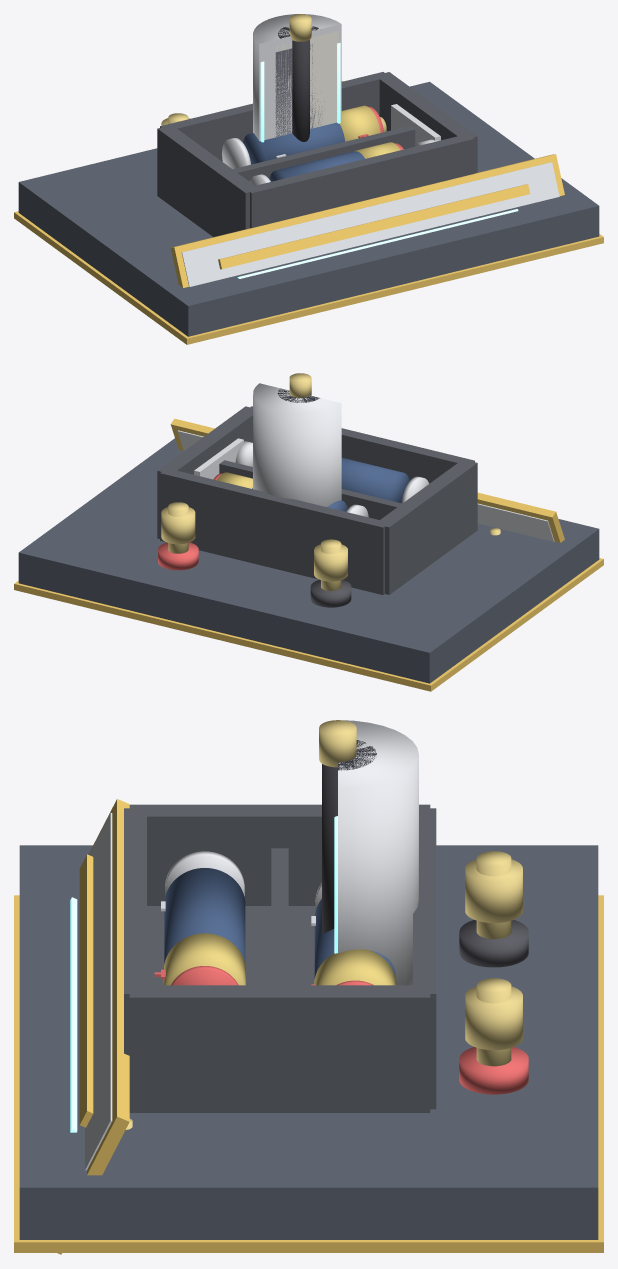
The model's file is battery.glb.
3 renders of one model, top to bottom at view 1: azimuth 30°, elevation 25°; view 2: azimuth 150°, elevation 25°; view 3: azimuth 270°, elevation 25°, orthographic. The views are drawn at different scales.
Parts seen in each view (by area): view 1: batt_full_plinth, batt_sec_plaque_face, batt_full_cradle_front, batt_full_cradle_left, batt_full_plinth_rim, batt_sec_zinc_can, batt_full_cradle_back, batt_sec_plaque_trim, batt_sec_title_bar, batt_full_cradle_right, batt_sec_separator, batt_full_cradle_div (+9 smaller); view 2: batt_full_plinth, batt_full_cradle_back, batt_sec_zinc_can, batt_full_cradle_left, batt_full_plinth_rim, batt_full_cradle_front, batt_full_cradle_right, batt_full_c2_body, batt_sec_plaque_face, batt_sec_plaque_trim, batt_full_cradle_div, batt_full_nut_pos (+7 smaller); view 3: batt_full_plinth, batt_full_cradle_right, batt_sec_zinc_can, batt_full_cradle_left, batt_full_plinth_rim, batt_sec_plaque_face, batt_full_cradle_base, batt_full_c2_body, batt_sec_plaque_trim, batt_full_cradle_back, batt_full_cradle_front, batt_sec_title_bar (+15 smaller).
Boxes of the visible parts, left/top/right/bottom form: batt_full_plinth: left=18, top=81, right=599, bottom=336; batt_sec_plaque_face: left=181, top=162, right=559, bottom=286; batt_full_cradle_front: left=245, top=134, right=474, bottom=228; batt_full_cradle_left: left=157, top=125, right=257, bottom=236; batt_full_plinth_rim: left=14, top=211, right=603, bottom=344; batt_sec_zinc_can: left=253, top=14, right=341, bottom=141; batt_full_cradle_back: left=160, top=72, right=389, bottom=161; batt_sec_plaque_trim: left=171, top=154, right=564, bottom=287; batt_sec_title_bar: left=218, top=184, right=530, bottom=269; batt_full_cradle_right: left=375, top=72, right=477, bottom=173; batt_sec_separator: left=268, top=31, right=338, bottom=133; batt_full_cradle_div: left=233, top=126, right=415, bottom=181; batt_full_plinth: left=18, top=438, right=599, bottom=683; batt_full_cradle_back: left=160, top=468, right=389, bottom=594; batt_sec_zinc_can: left=253, top=383, right=341, bottom=506; batt_full_cradle_left: left=376, top=459, right=477, bottom=594; batt_full_plinth_rim: left=14, top=558, right=603, bottom=691; batt_full_cradle_front: left=245, top=406, right=474, bottom=483; batt_full_cradle_right: left=157, top=406, right=252, bottom=538; batt_full_c2_body: left=341, top=457, right=409, bottom=503; batt_sec_plaque_face: left=177, top=430, right=554, bottom=541; batt_sec_plaque_trim: left=170, top=418, right=564, bottom=542; batt_full_cradle_div: left=219, top=460, right=401, bottom=519; batt_full_nut_pos: left=161, top=507, right=195, bottom=544; batt_full_plinth: left=19, top=845, right=598, bottom=1239; batt_full_cradle_right: left=129, top=985, right=430, bottom=1112; batt_sec_zinc_can: left=338, top=720, right=418, bottom=985; batt_full_cradle_left: left=129, top=804, right=430, bottom=905; batt_full_plinth_rim: left=14, top=895, right=603, bottom=1252; batt_sec_plaque_face: left=85, top=813, right=112, bottom=1170; batt_full_cradle_base: left=147, top=906, right=315, bottom=985; batt_full_c2_body: left=164, top=868, right=245, bottom=963; batt_sec_plaque_trim: left=57, top=799, right=129, bottom=1254; batt_full_cradle_back: left=413, top=808, right=436, bottom=1109; batt_full_cradle_front: left=124, top=808, right=146, bottom=1055; batt_sec_title_bar: left=79, top=854, right=93, bottom=1127.
Size of the model in its own units: 0.142 by 0.0702 by 0.102.
